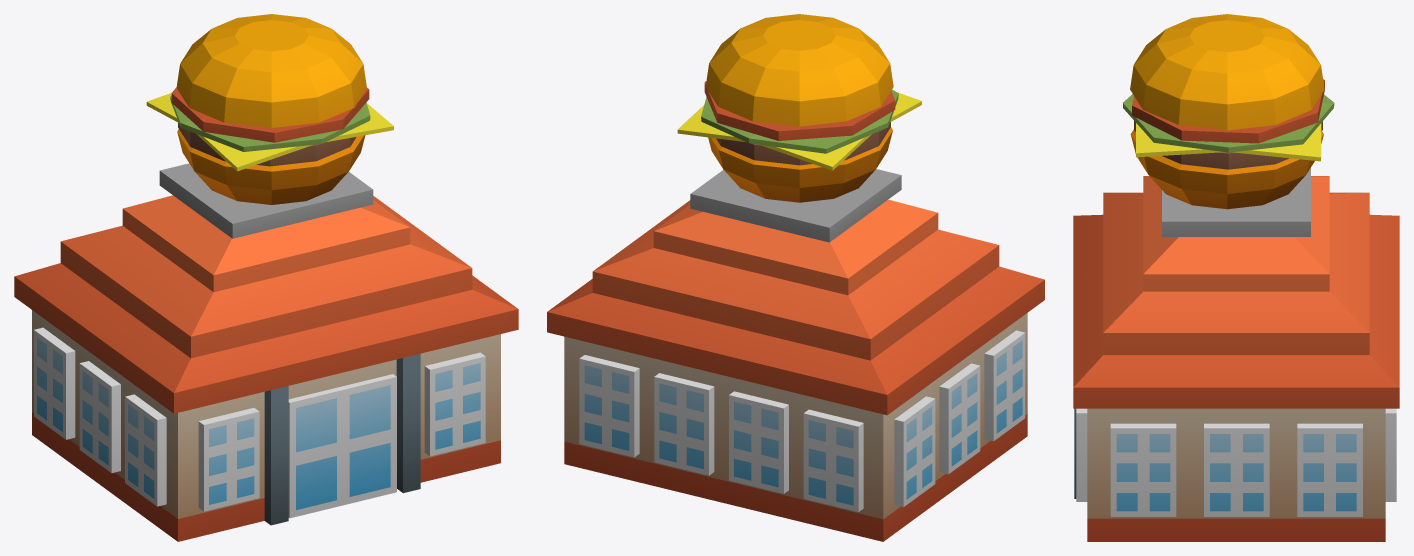
File: burger cafe house.fbx
The picture shows the model from 3 angles, left to right: view 1: azimuth 30°, elevation 25°; view 2: azimuth 150°, elevation 25°; view 3: azimuth 270°, elevation 25°; orthographic projection. The views are drawn at different scales.
Parts seen in each view (by area): view 1: burger_cafe; view 2: burger_cafe; view 3: burger_cafe.
Part boxes in pixels (bbox=[...]): burger_cafe: bbox=[14, 14, 518, 541]; burger_cafe: bbox=[547, 14, 1044, 541]; burger_cafe: bbox=[1073, 14, 1399, 541].
Bounding box in the file's own units: 651 × 752 × 522.
1 material, 1 textured.
